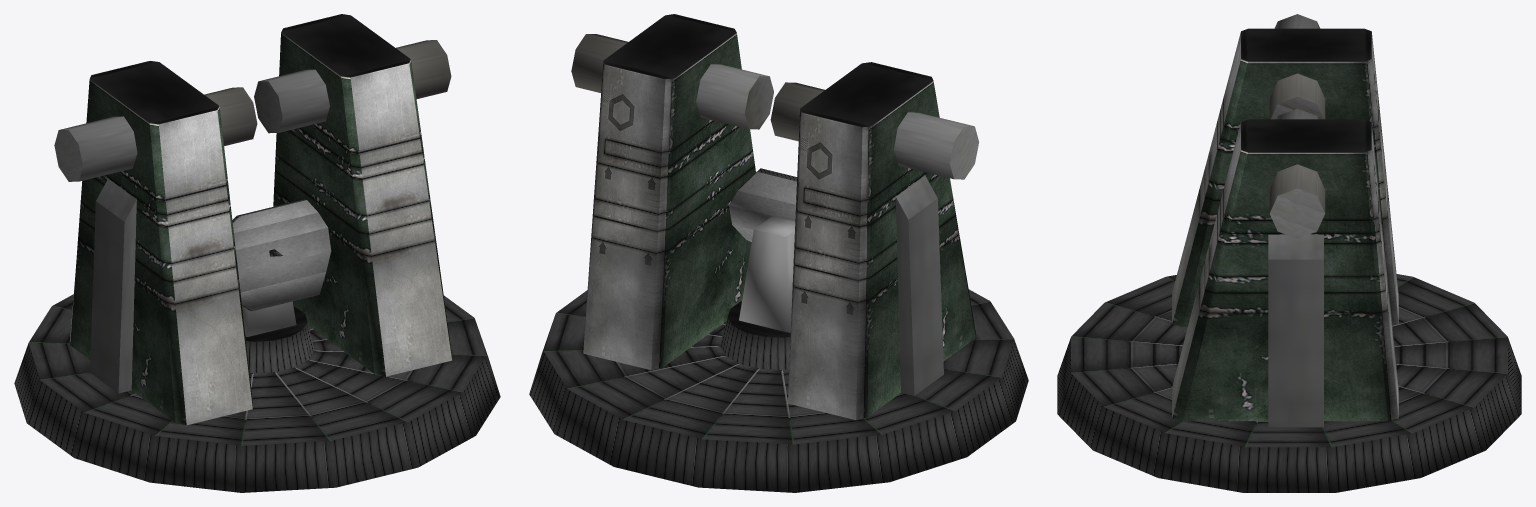
Rendered from SAM1TurretBase.fbx.
3 views of the same model, side by side, from view 1: azimuth 30°, elevation 25°; view 2: azimuth 150°, elevation 25°; view 3: azimuth 270°, elevation 25° (orthographic). The views are drawn at different scales.
Visible parts, largest first — view 1: SAM1TurretBase; view 2: SAM1TurretBase; view 3: SAM1TurretBase.
Part boxes in pixels (bbox=[...]): SAM1TurretBase: bbox=[14, 14, 500, 492]; SAM1TurretBase: bbox=[529, 14, 1028, 492]; SAM1TurretBase: bbox=[1057, 14, 1521, 492].
Size of the model in its own units: 133 by 96.75 by 133.
